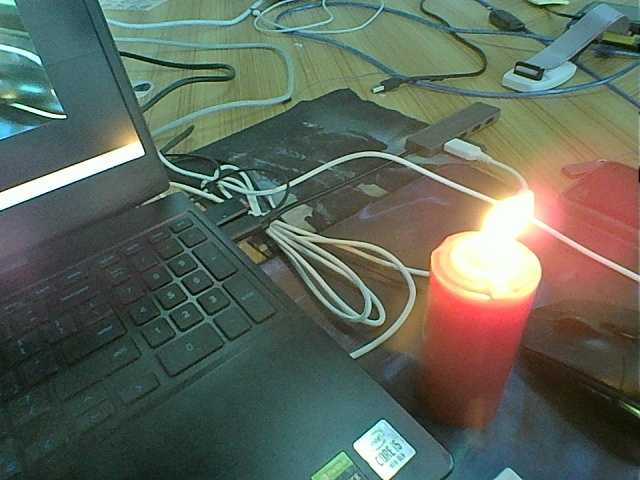candle: (417, 238, 534, 426)
fire: (442, 187, 554, 293), (119, 131, 159, 163)
